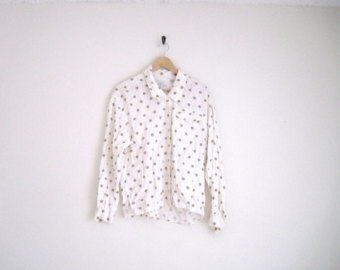S_shirt: (85, 61, 234, 236)
